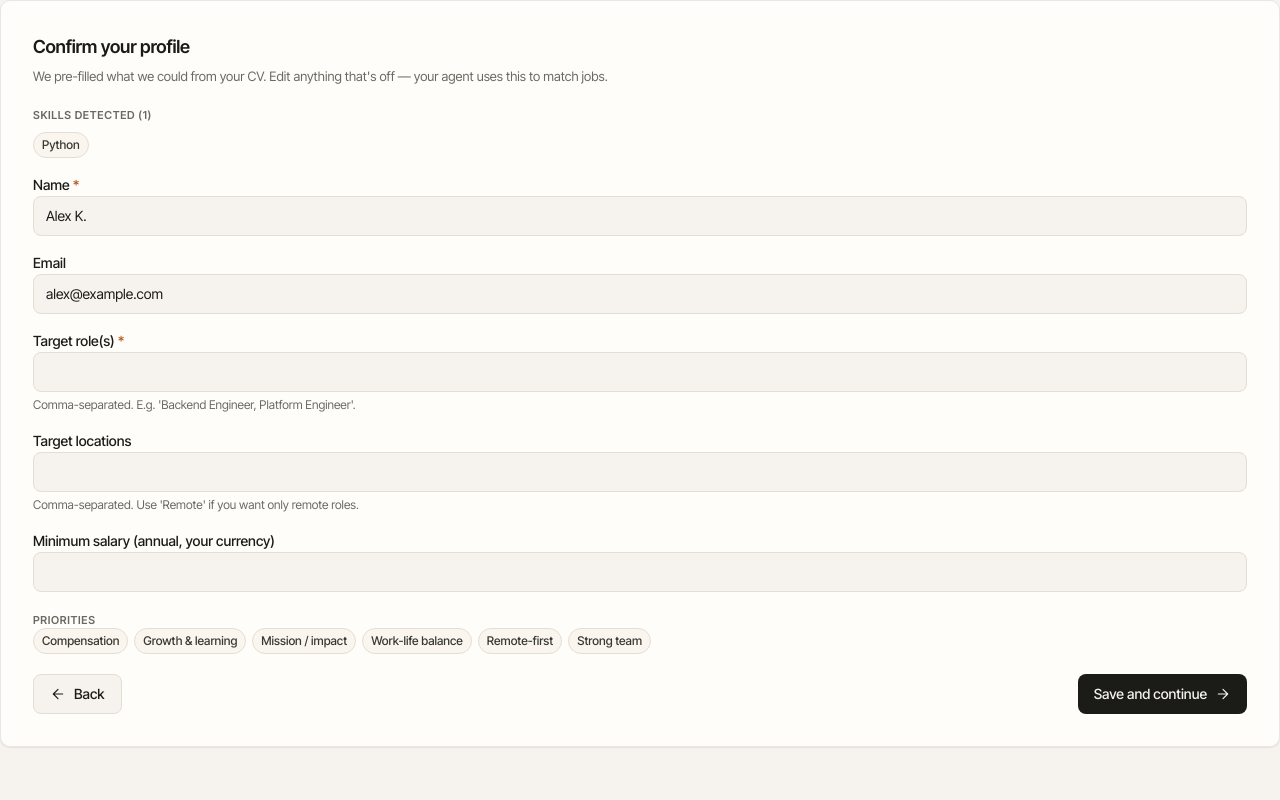
Test: ReviewStep › rejects malformed email
expect the field labelled "Name *" is shown: met, box [33, 196, 1247, 236]
Replace the text in the field labelled "Email" with "not-an-email" at (640, 294), box [33, 274, 1247, 314]
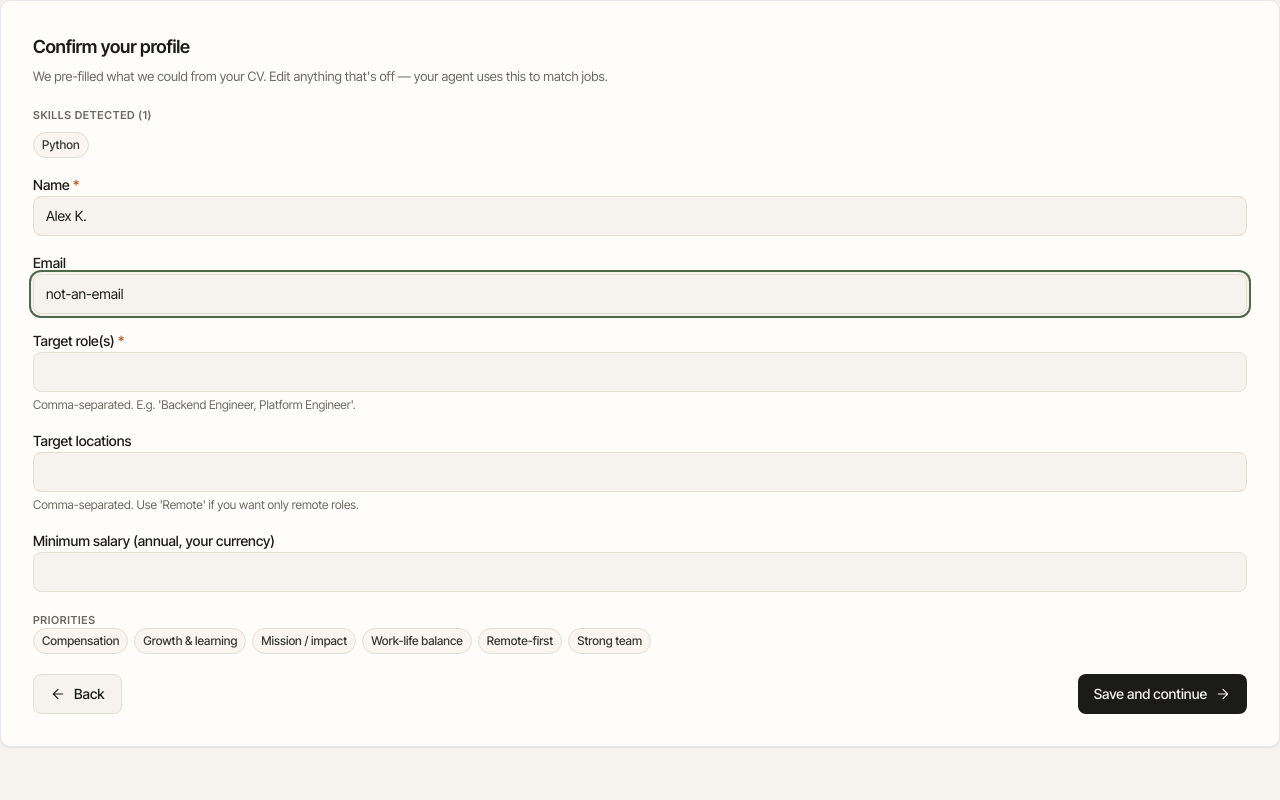
Type "Backend" into the field labelled "Target role(s) *".
click(640, 372); type("Backend")  # box [33, 352, 1247, 392]
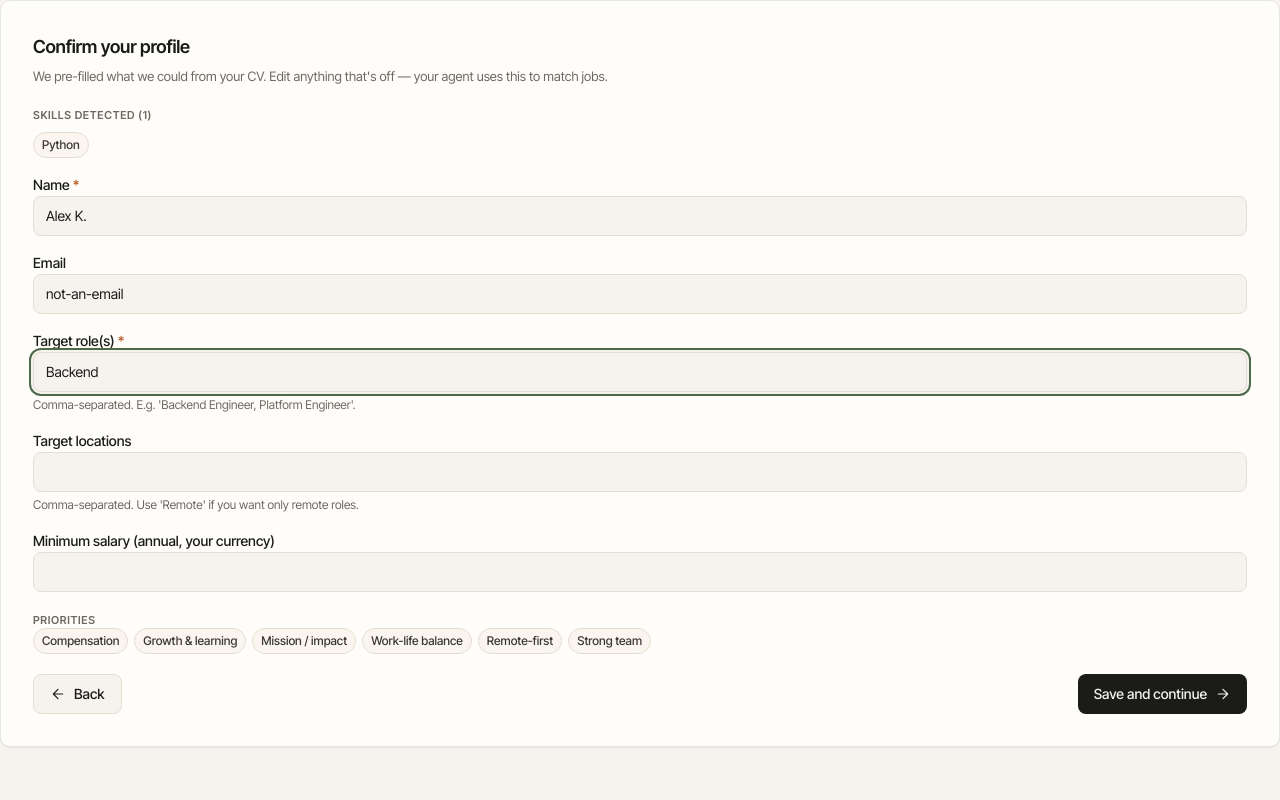
Click the button "Save and continue".
click(1162, 694)  # box [1078, 674, 1247, 714]
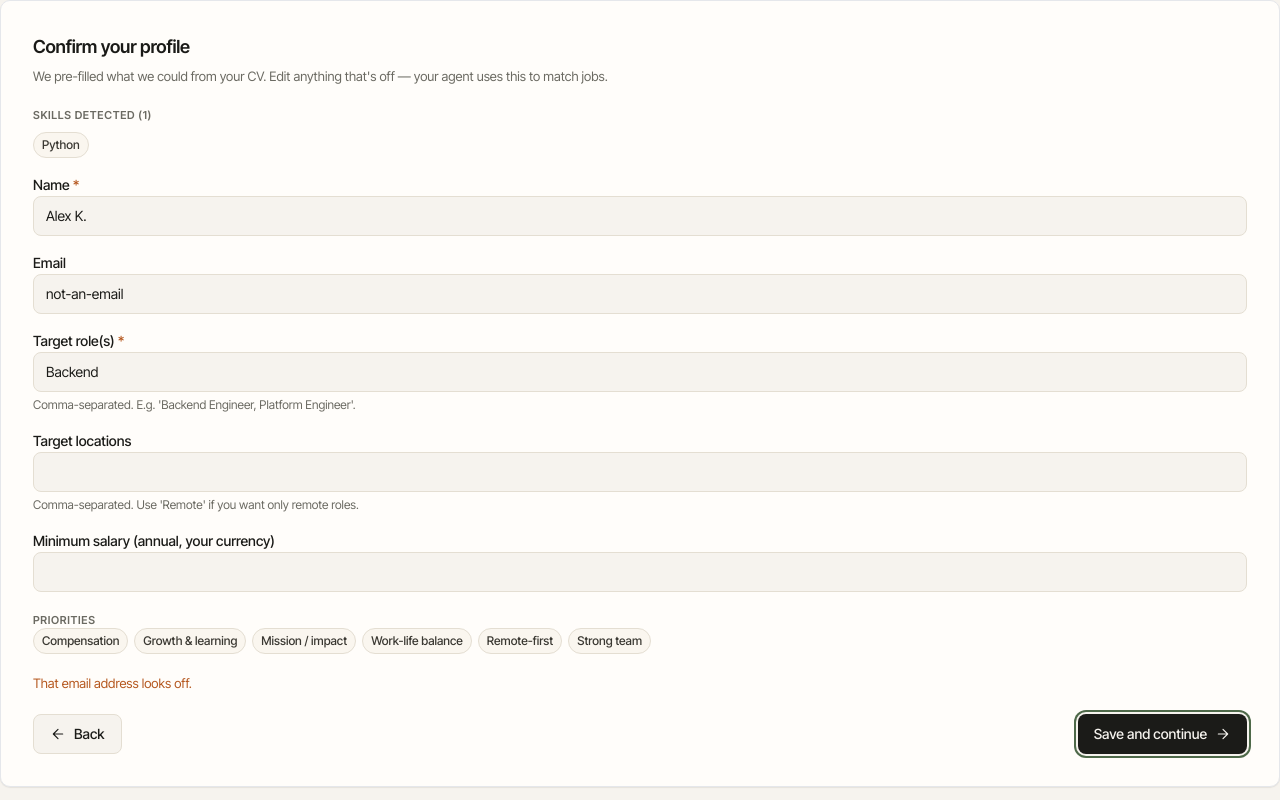
expect the message shows "email address": met, box [33, 675, 192, 691]
